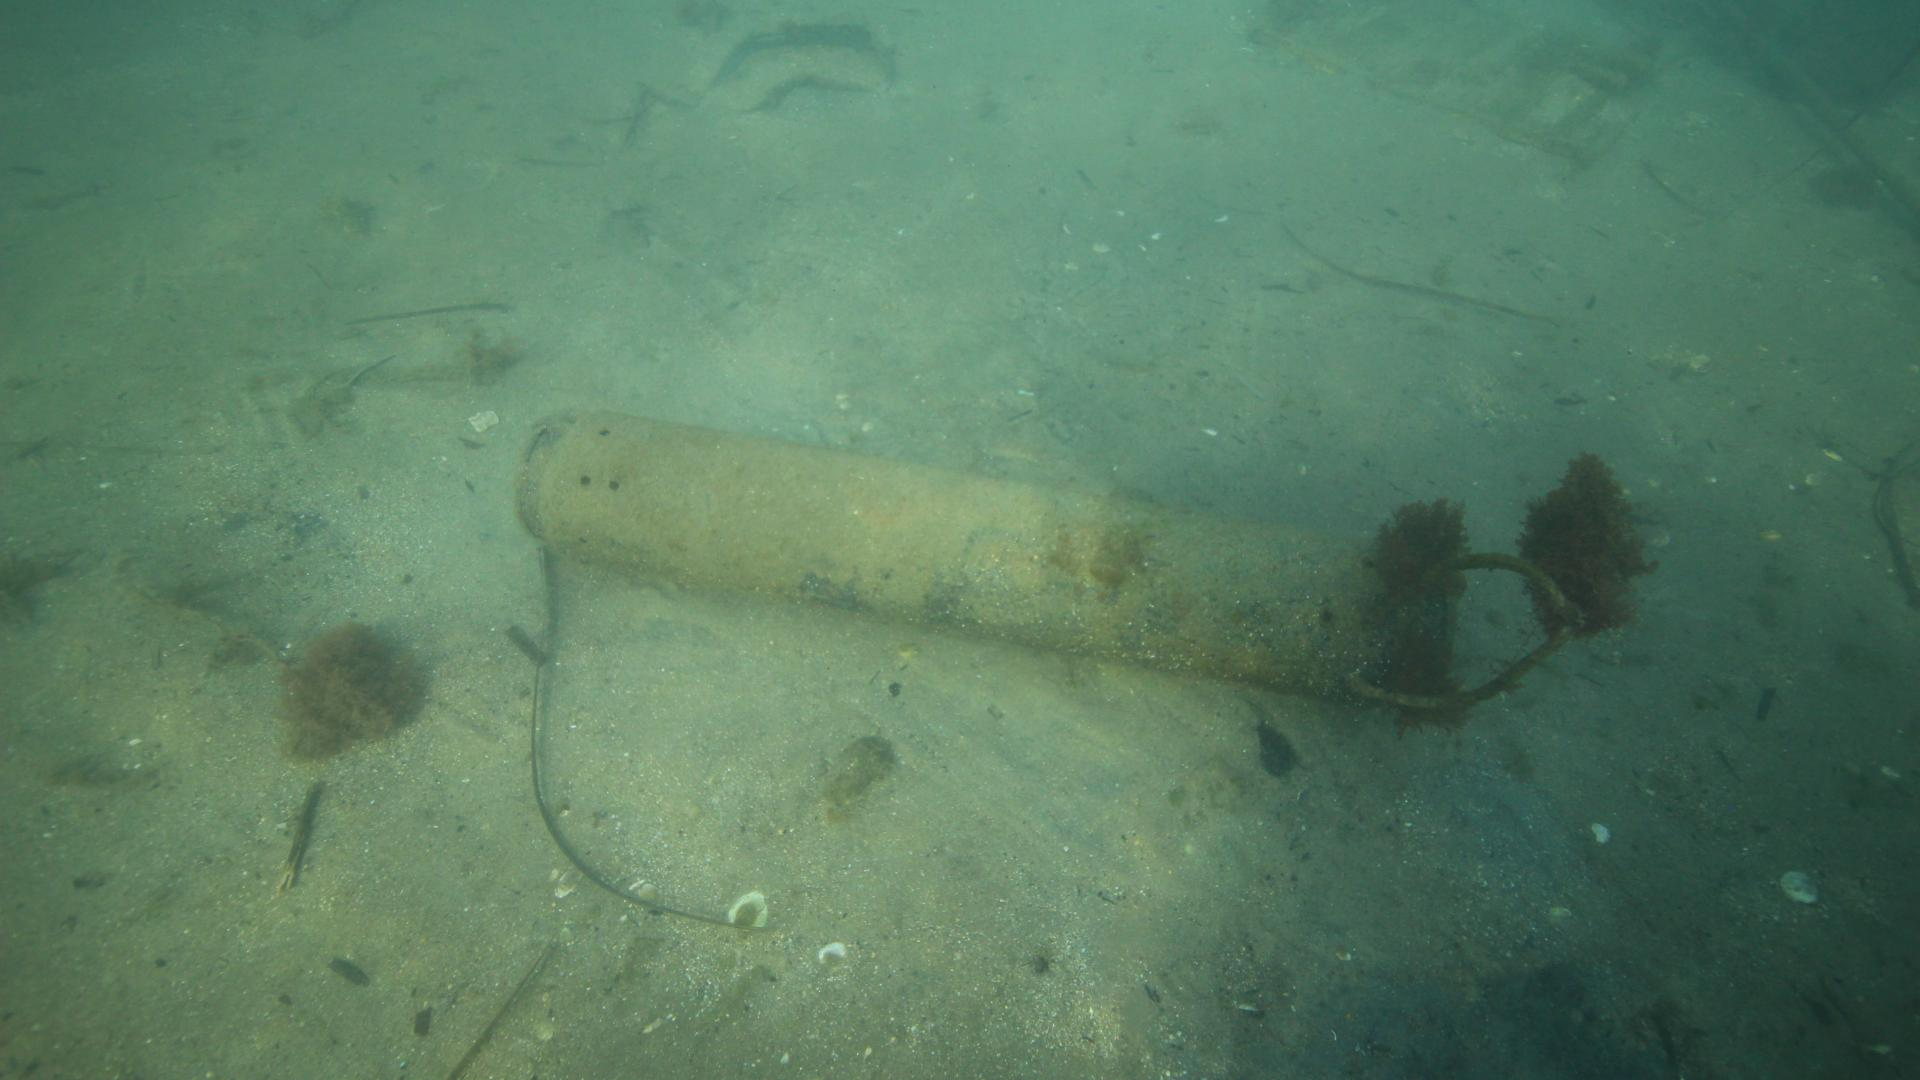bundle of ropes: (1345, 549, 1580, 713)
eel fish trap: (510, 407, 1448, 712)
